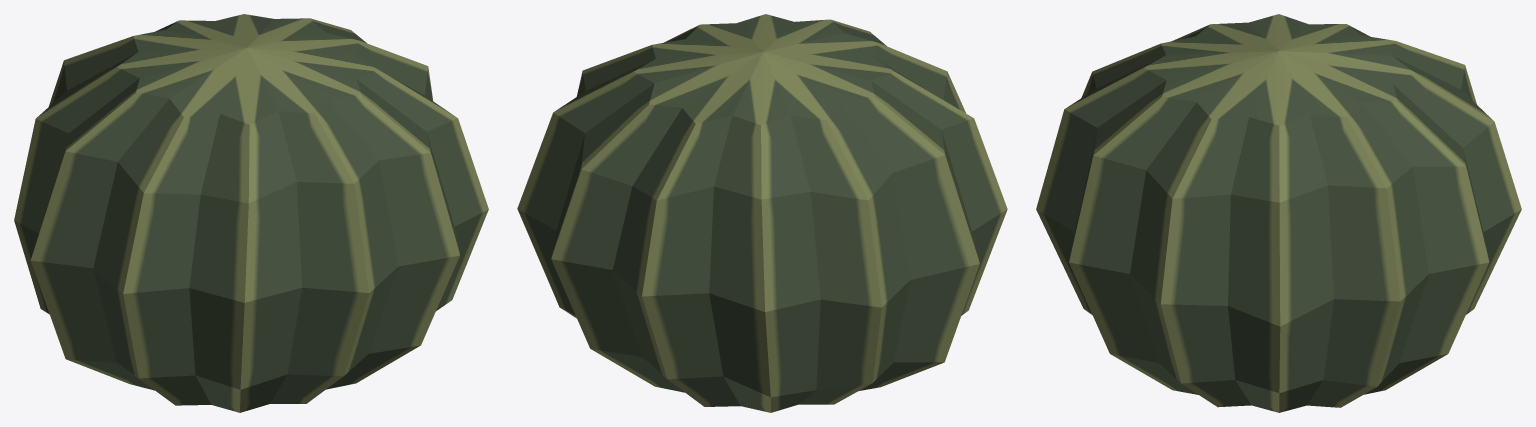
3 renders of one model, left to right at view 1: azimuth 30°, elevation 25°; view 2: azimuth 150°, elevation 25°; view 3: azimuth 270°, elevation 25°, orthographic.
Parts seen in each view (by area): view 1: SM_Env_Cactus_01; view 2: SM_Env_Cactus_01; view 3: SM_Env_Cactus_01.
Part boxes in pixels (x1,y1,x2,y2): SM_Env_Cactus_01: (14,14,488,412); SM_Env_Cactus_01: (517,14,1007,412); SM_Env_Cactus_01: (1036,14,1521,412).
Bounding box in the file's own units: 0.7766 × 0.5584 × 0.7851.
Materials: 1 (1 with a texture image).
